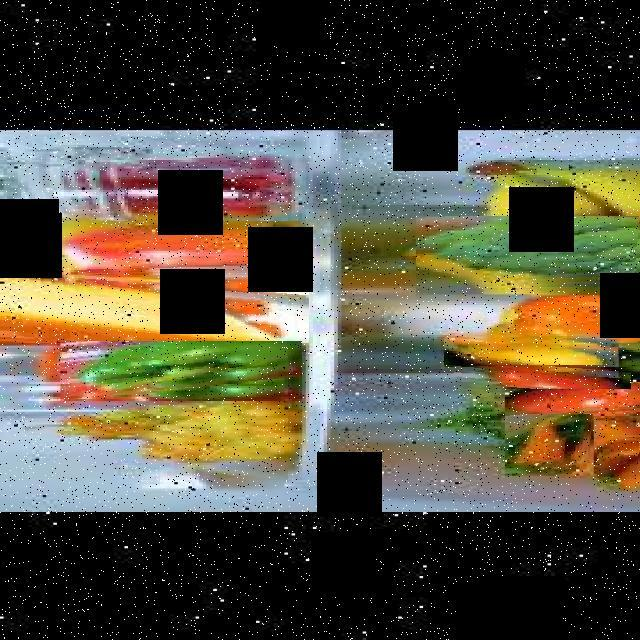apple: (23, 221, 301, 276)
bell_pepper: (60, 341, 302, 399), (498, 284, 640, 343)
broccoli: (416, 215, 640, 292)
carrot: (505, 414, 594, 473), (597, 435, 640, 491)
cheese: (0, 268, 309, 343)
lemon: (444, 333, 618, 365)
tomato: (453, 360, 631, 390), (505, 382, 640, 418)
